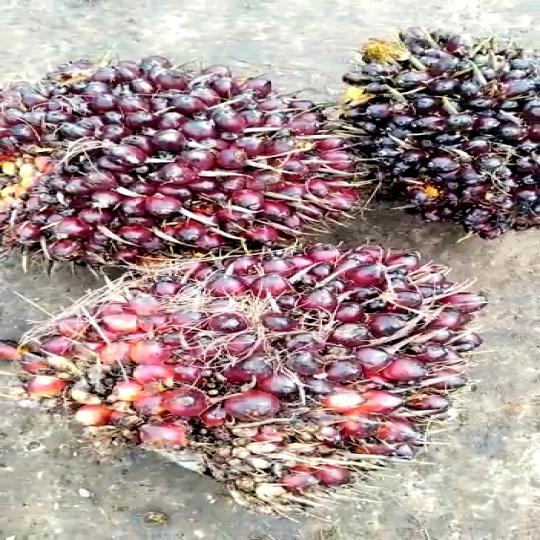kurang masak: (25, 231, 485, 518), (0, 53, 363, 266), (313, 26, 540, 259)
